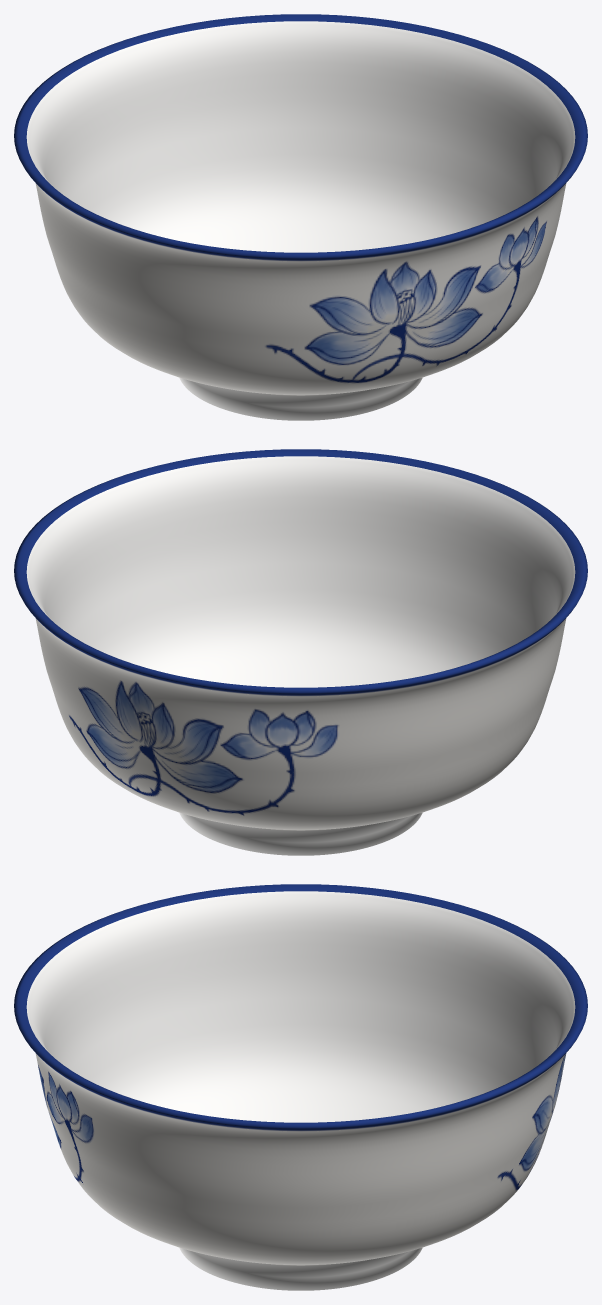
File: FOOD_pho_bowl_lotus.glb
3 views of the same model, one above another, from view 1: azimuth 30°, elevation 25°; view 2: azimuth 150°, elevation 25°; view 3: azimuth 270°, elevation 25° (orthographic).
Visible parts, largest first — view 1: FOOD_pho_bowl_lotus; view 2: FOOD_pho_bowl_lotus; view 3: FOOD_pho_bowl_lotus.
Boxes of the visible parts, box(x1,y1,x2,y2) form: FOOD_pho_bowl_lotus: box(14, 14, 587, 420); FOOD_pho_bowl_lotus: box(14, 449, 587, 855); FOOD_pho_bowl_lotus: box(14, 884, 587, 1290).
Size of the model in its own units: 0.181 by 0.0818 by 0.181.
Materials: 2 (1 with a texture image).
